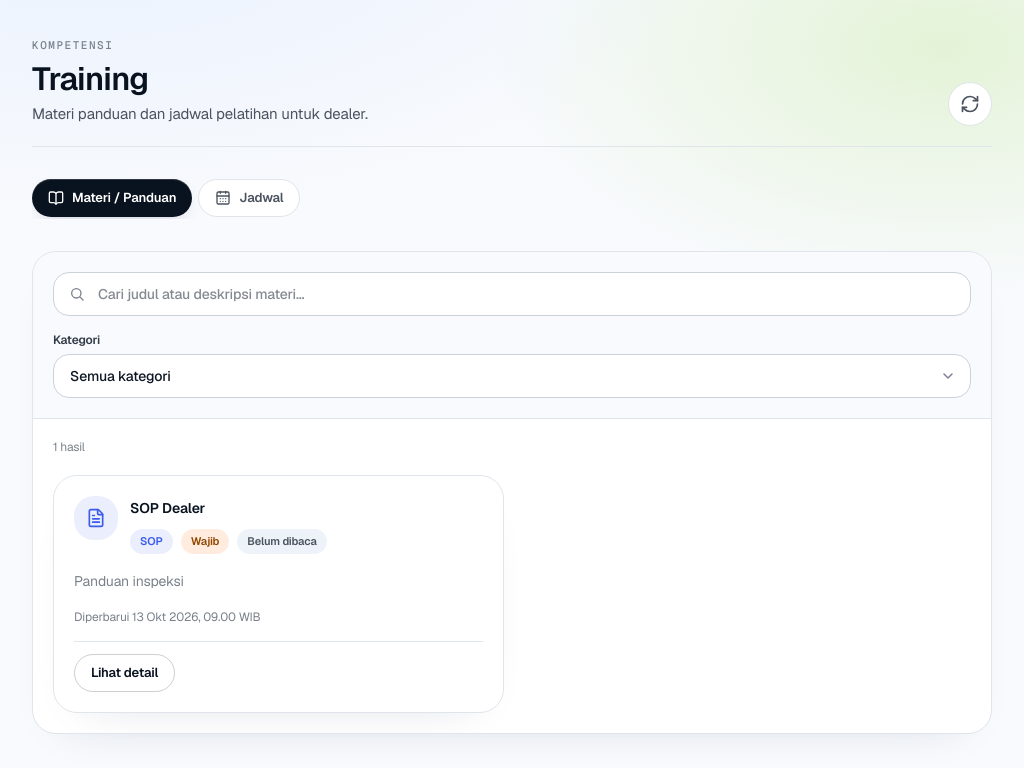
Training role flows › dealer has no CRUD, status filter, dealer picker, or group fetch and can persist reading
Expected: the text "SOP Dealer" is shown, [130,499,205,517]
Click the button "Lihat detail": [125, 673] box [74,654,175,692]
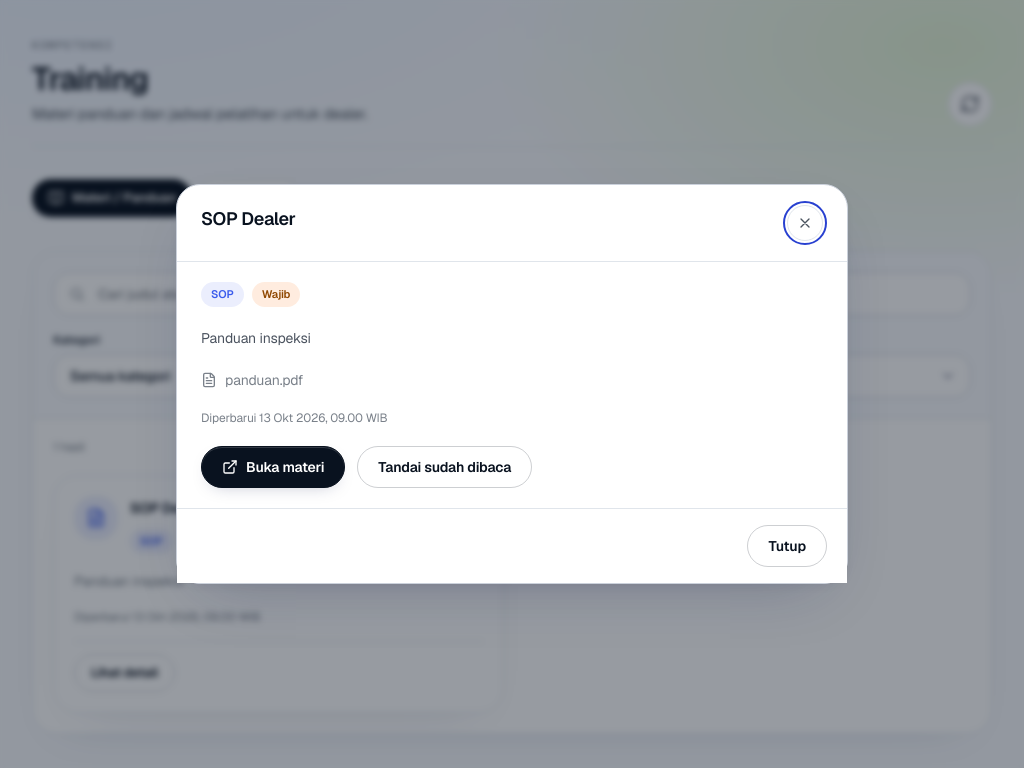
Click the button "Tandai sudah dibaca": [445, 467] box [357,446,532,488]
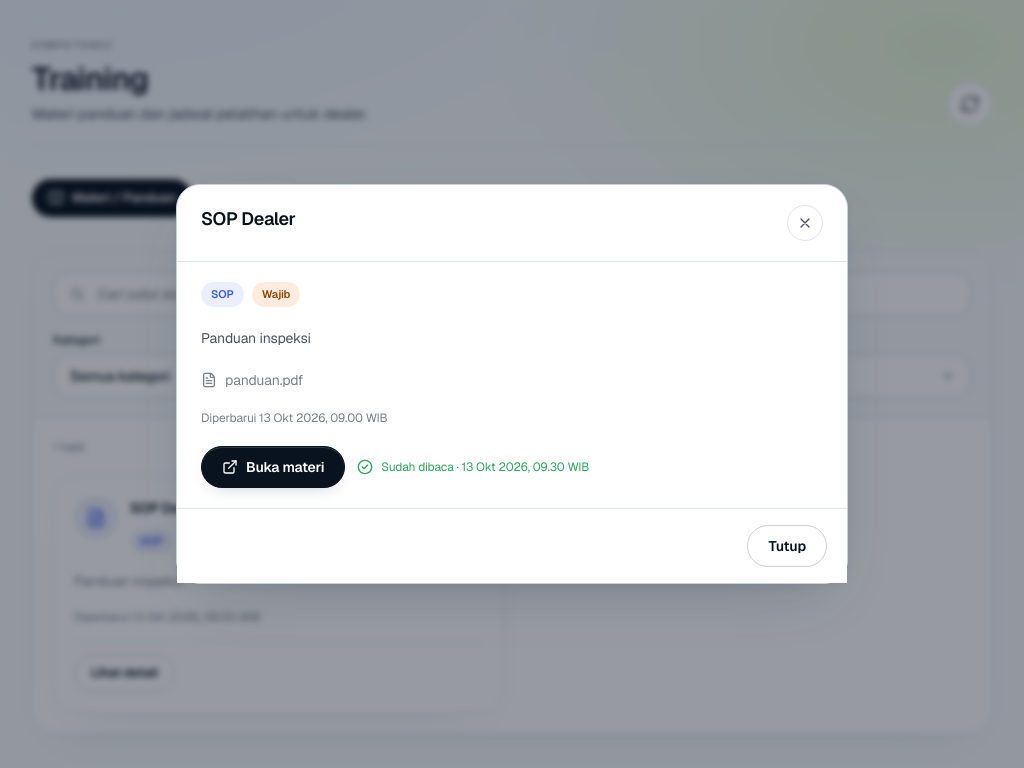
Now the message is shown, box [357,459,589,475]
Now the button "Tandai sudah dibaca" is gone
